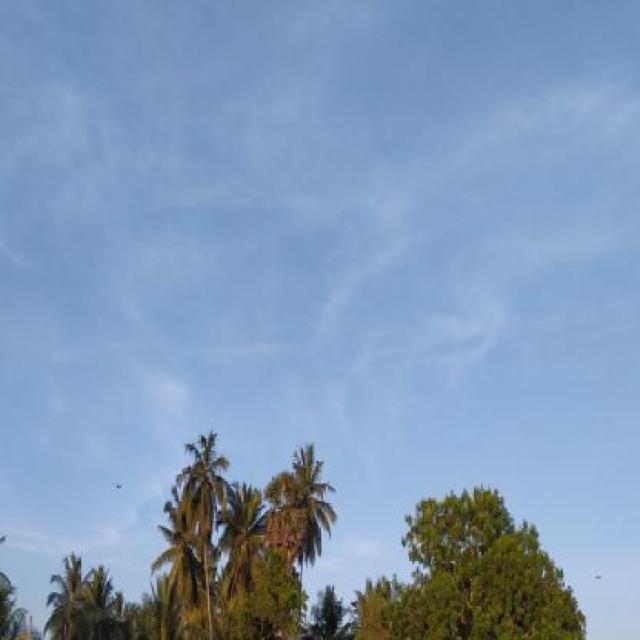bird: (115, 482, 122, 492)
